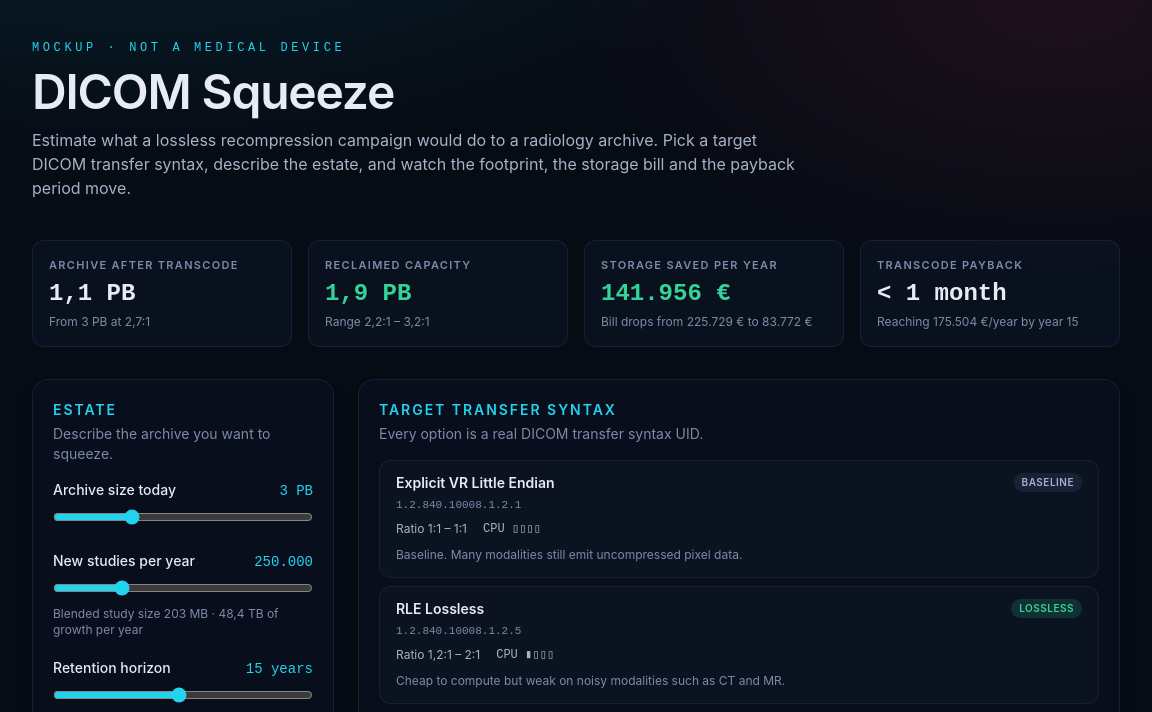
Test case: App › shows a larger archive when the estate slider grows
The image size is (1152, 712).
Expected: the text "From 3 PB at 2,7:1" is shown, [49,314,150,328]
Set the slider labelled "Archive size today" to "6": {"x": 206, "y": 516} [53,508,313,524]
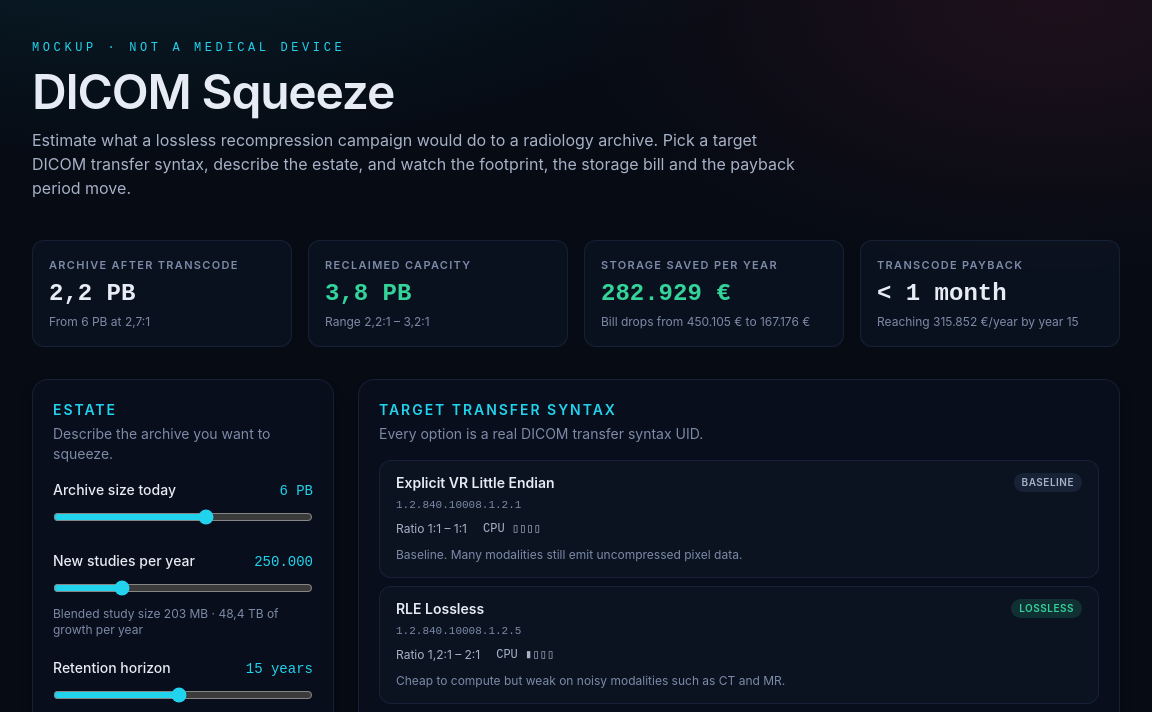
Expected: the text "From 6 PB at 2,7:1" is shown, [49,314,150,328]
